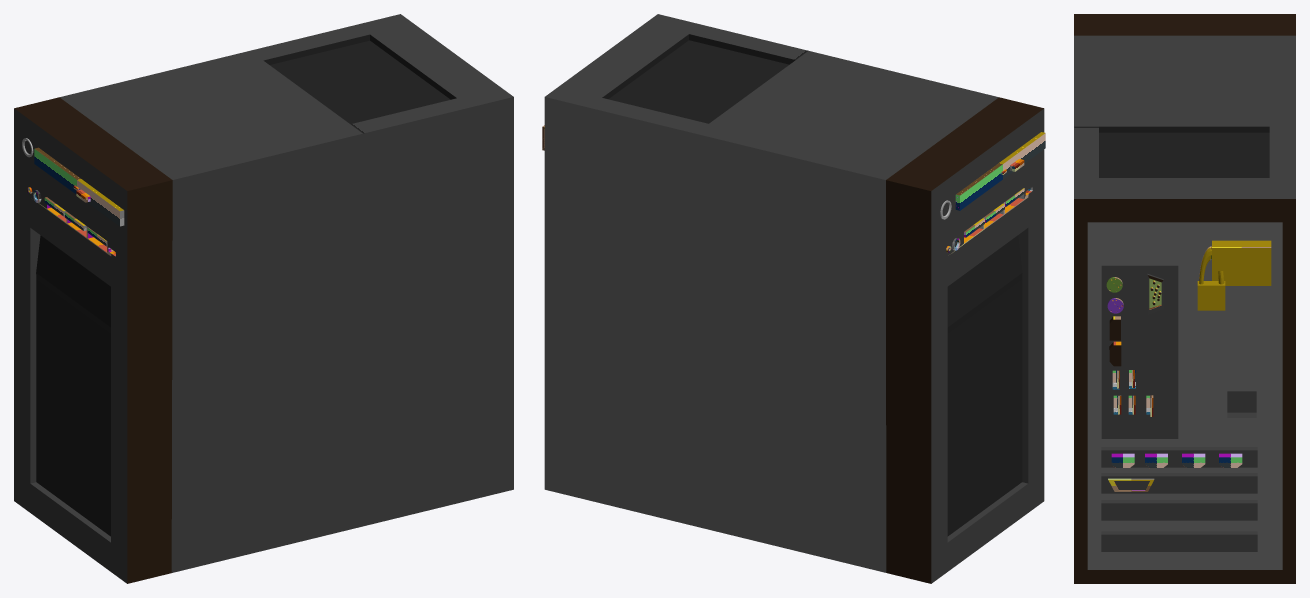
The model's file is Gabinete.fbx.
3 views of the same model, side by side, from view 1: azimuth 30°, elevation 25°; view 2: azimuth 150°, elevation 25°; view 3: azimuth 270°, elevation 25° (orthographic). The views are drawn at different scales.
Visible parts, largest first — view 1: Gabinete; view 2: Gabinete; view 3: Gabinete.
Boxes of the visible parts, left/top/right/bottom form: Gabinete: left=14, top=14, right=513, bottom=583; Gabinete: left=542, top=14, right=1045, bottom=583; Gabinete: left=1074, top=14, right=1295, bottom=583.
Size of the model in its own units: 36.8 by 33.5 by 17.5.
1 material, 1 textured.
